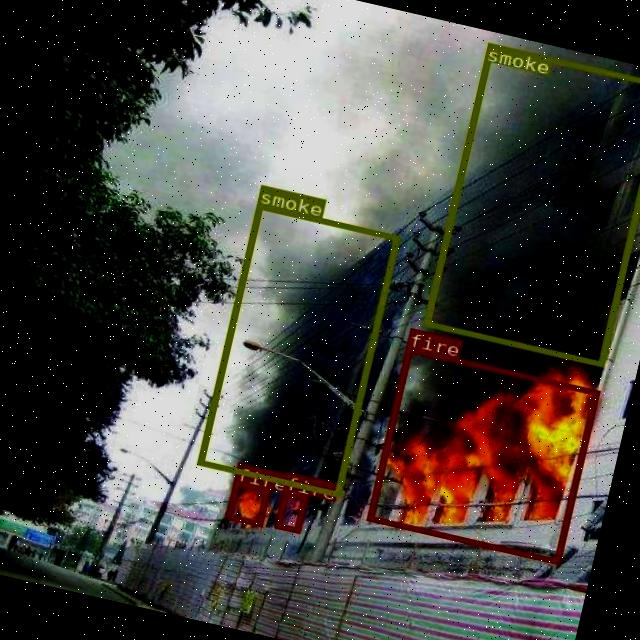fire: (366, 346, 598, 564), (224, 479, 268, 525), (273, 488, 307, 531)
smoke: (421, 41, 640, 365), (195, 202, 399, 496)
